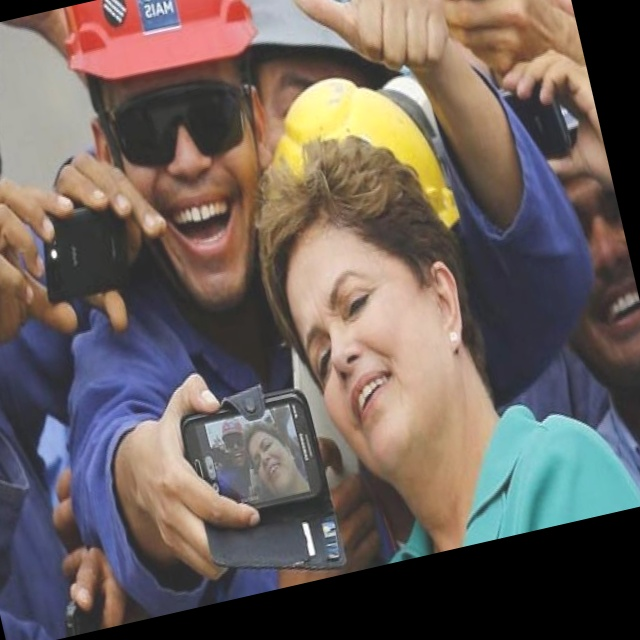Con_Casco: (55, 0, 280, 185)
